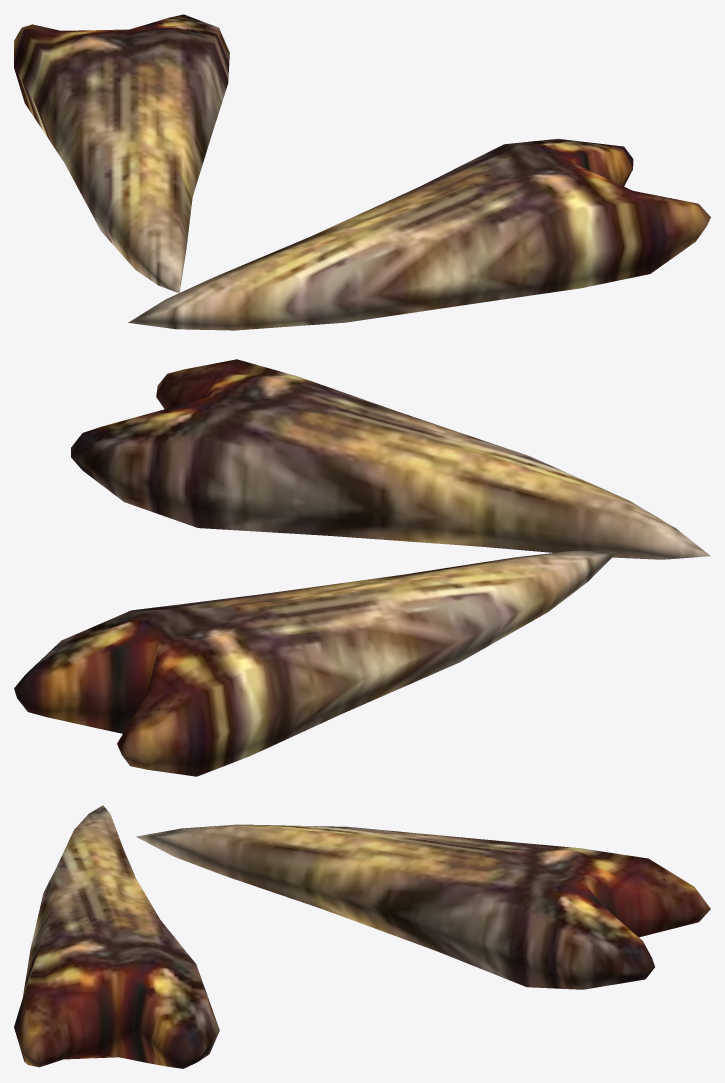
The model's file is ITAT_TEETH.glb.
3 views of the same model, one above another, from view 1: azimuth 30°, elevation 25°; view 2: azimuth 150°, elevation 25°; view 3: azimuth 270°, elevation 25° (orthographic). The views are drawn at different scales.
Visible parts, largest first — view 1: Mesh; view 2: Mesh; view 3: Mesh.
Boxes of the visible parts, x1=… form: Mesh: x1=14, y1=14, x2=710, y2=330; Mesh: x1=14, y1=359, x2=710, y2=776; Mesh: x1=14, y1=805, x2=710, y2=1068.
Bounding box in the file's own units: 0.1711 × 0.032 × 0.1999.
Materials: 1 (1 with a texture image).
